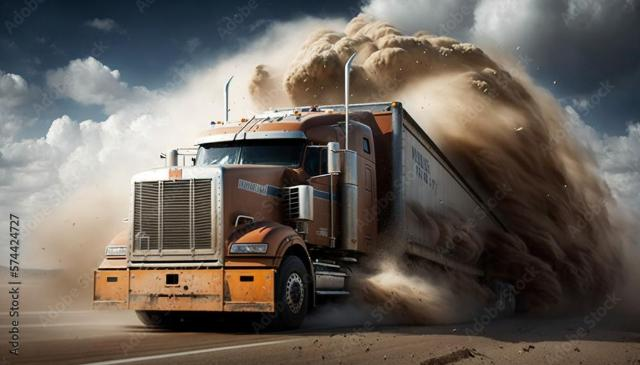truck: (80, 91, 393, 333)
